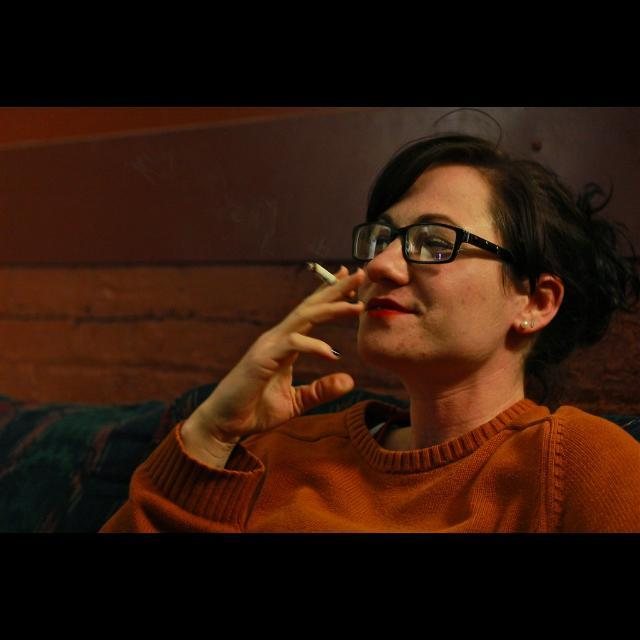rokok: (303, 259, 349, 287)
